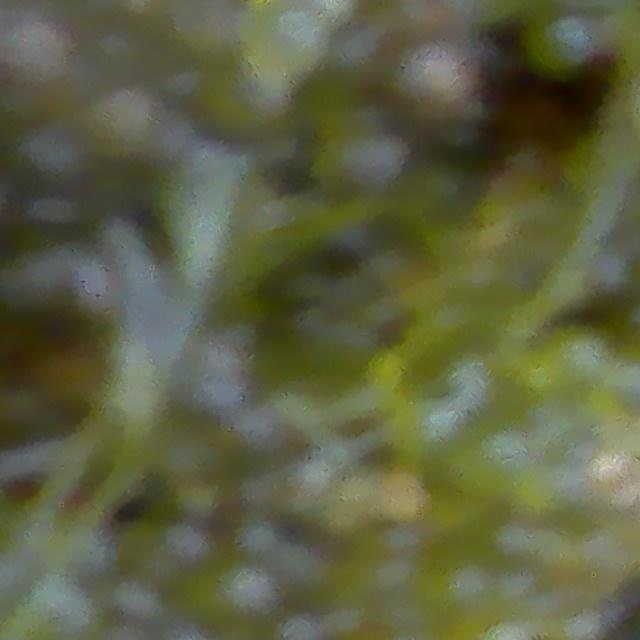SeaGrape: (389, 35, 489, 128), (385, 393, 462, 463), (262, 3, 333, 75), (526, 11, 594, 76)
